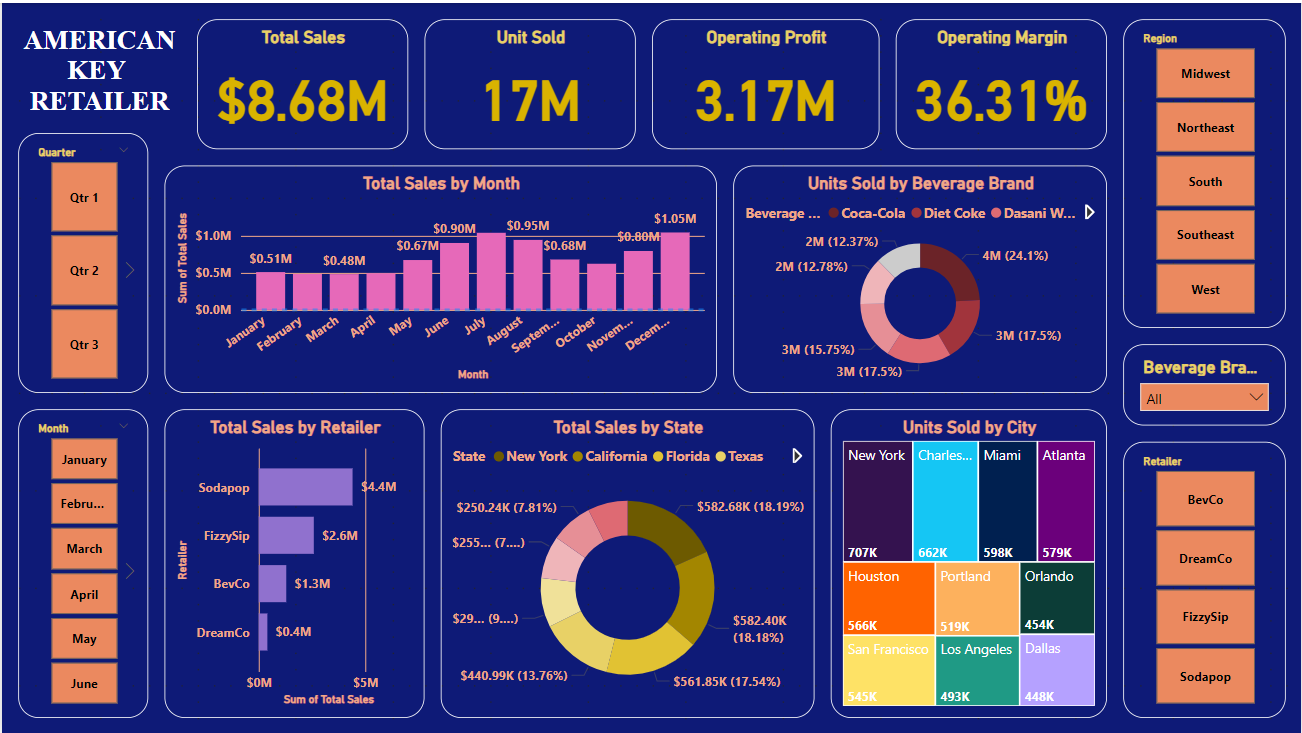

The page's visual inventory and layout, read from the dashboard file:
{"tool":"powerbi","page":{"name":"Page 1","canvas":[1280,720],"ordinal":0},"visuals":[{"type":"slicer","fields":{"Values":["Sheet1.Invoice Date.Variation.Date Hierarchy.Month"]},"box":[16,400,128,304],"z":0},{"type":"slicer","fields":{"Values":["Sheet1.Invoice Date.Variation.Date Hierarchy.Quarter"]},"box":[16,128,128,256],"z":1000},{"type":"slicer","fields":{"Values":["Sheet1.Region"]},"box":[1104,16,160,304],"z":2000},{"type":"slicer","fields":{"Values":["Sheet1.Beverage Brand"]},"box":[1104,336,160,80],"z":3000},{"type":"slicer","fields":{"Values":["Sheet1.Retailer"]},"box":[1104,432,160,272],"z":4000},{"type":"card","title":"Total Sales","fields":{"Values":["Sum(Sheet1.Total Sales)"]},"box":[192,16,208,128],"z":5000},{"type":"card","title":"Unit Sold","fields":{"Values":["Sum(Sheet1.Units Sold)"]},"box":[416,16,208,128],"z":6000},{"type":"card","title":"Operating Profit","fields":{"Values":["Sum(Sheet1.Operating Profit)"]},"box":[640,16,224,128],"z":7000},{"type":"card","title":"Operating Margin","fields":{"Values":["Avg(Sheet1.Operating Margin)"]},"box":[880,16,208,128],"z":8000},{"type":"columnChart","title":" Total Sales by Month","fields":{"Category":["Sheet1.Invoice Date.Variation.Date Hierarchy.Month"],"Y":["Sum(Sheet1.Total Sales)"]},"box":[160,160,544,224],"z":9000},{"type":"donutChart","title":" Units Sold by Beverage Brand","fields":{"Category":["Sheet1.Beverage Brand"],"Y":["Sum(Sheet1.Units Sold)"]},"box":[720,160,368,224],"z":10000},{"type":"barChart","title":"Total Sales by Retailer","fields":{"Y":["Sum(Sheet1.Total Sales)"],"Category":["Sheet1.Retailer"]},"box":[160,400,256,304],"z":11000},{"type":"treemap","title":" Units Sold by City","fields":{"Group":["Sheet1.City"],"Values":["Sum(Sheet1.Units Sold)"]},"box":[816,400,272,304],"z":12000},{"type":"donutChart","title":" Total Sales by State","fields":{"Y":["Sum(Sheet1.Total Sales)"],"Category":["Sheet1.State"]},"box":[432,400,368,304],"z":13000},{"type":"textbox","box":[0,16,192,112],"z":14000}]}

Visuals, with their boxes in screenshot pixels (x1, y1, x2, y2), scaled from the page's 1280x720 canvas onto the 1302x733 screenshot:
slicer - Sheet1.Invoice Date.Variation.Date Hierarchy.Month: {"x1": 16, "y1": 407, "x2": 146, "y2": 717}
slicer - Sheet1.Invoice Date.Variation.Date Hierarchy.Quarter: {"x1": 16, "y1": 130, "x2": 146, "y2": 391}
slicer - Sheet1.Region: {"x1": 1123, "y1": 16, "x2": 1286, "y2": 326}
slicer - Sheet1.Beverage Brand: {"x1": 1123, "y1": 342, "x2": 1286, "y2": 424}
slicer - Sheet1.Retailer: {"x1": 1123, "y1": 440, "x2": 1286, "y2": 717}
"Total Sales" card: {"x1": 195, "y1": 16, "x2": 407, "y2": 147}
"Unit Sold" card: {"x1": 423, "y1": 16, "x2": 635, "y2": 147}
"Operating Profit" card: {"x1": 651, "y1": 16, "x2": 879, "y2": 147}
"Operating Margin" card: {"x1": 895, "y1": 16, "x2": 1107, "y2": 147}
" Total Sales by Month" columnChart: {"x1": 163, "y1": 163, "x2": 716, "y2": 391}
" Units Sold by Beverage Brand" donutChart: {"x1": 732, "y1": 163, "x2": 1107, "y2": 391}
"Total Sales by Retailer" barChart: {"x1": 163, "y1": 407, "x2": 423, "y2": 717}
" Units Sold by City" treemap: {"x1": 830, "y1": 407, "x2": 1107, "y2": 717}
" Total Sales by State" donutChart: {"x1": 439, "y1": 407, "x2": 814, "y2": 717}
textbox: {"x1": 0, "y1": 16, "x2": 195, "y2": 130}
